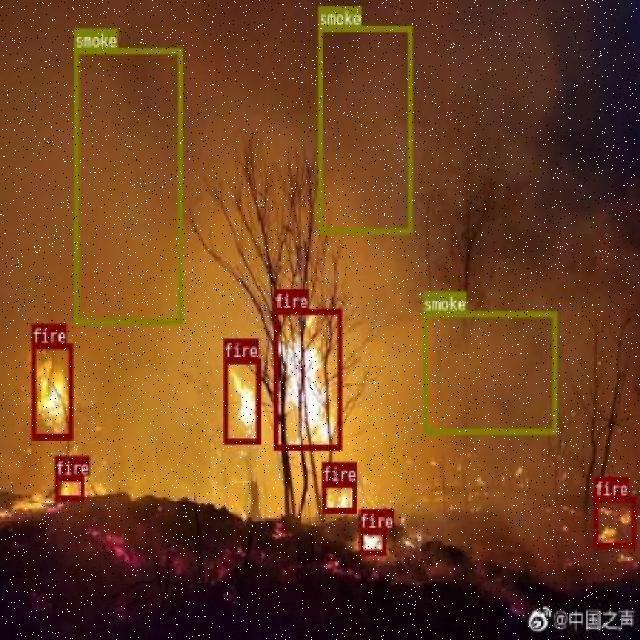Smoke: (73, 0, 181, 259), (317, 0, 411, 166), (454, 311, 524, 433)
